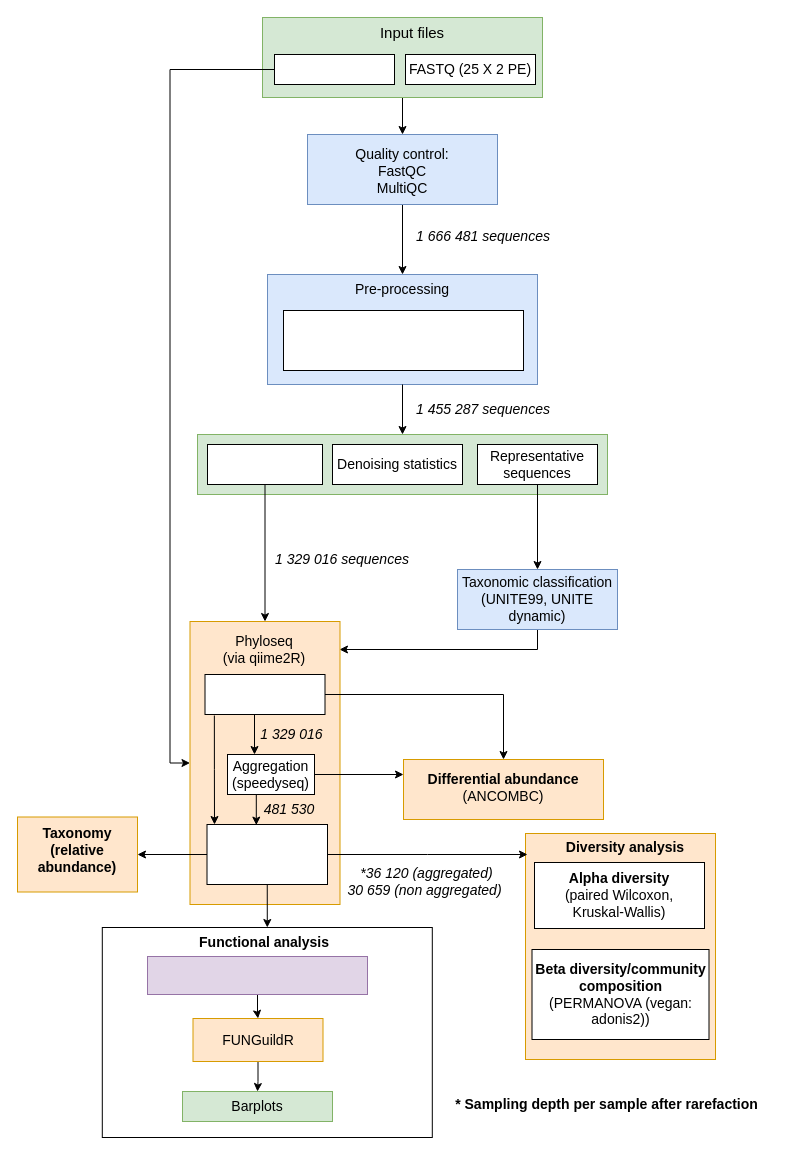
This 789x1155 diagram has some shape labels left out. The shapes that lost their labels are listed below. From the top down, each one's box as (x1, y1, x2, y2) in pixels, then its label:
(274, 54, 394, 84): Metadata (.tsv)
(282, 310, 524, 370): Denoising/feature table generation (DADA2)
(206, 444, 322, 484): Feature table 6327 features
(204, 674, 325, 714): Agglomeration (tax_glom)
(206, 824, 328, 884): Rarefaction (vegan)
(146, 956, 368, 994): Feature table pre-processing (Python)
